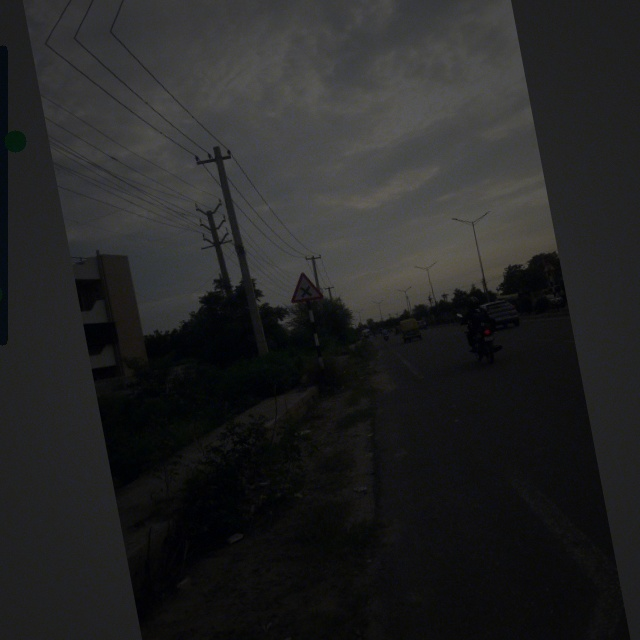Cross_Road: (283, 262, 327, 308)
